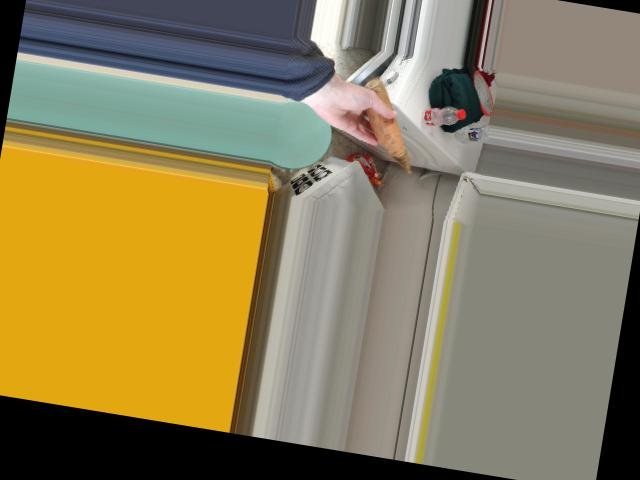sweet_potato: (361, 97, 415, 152)
